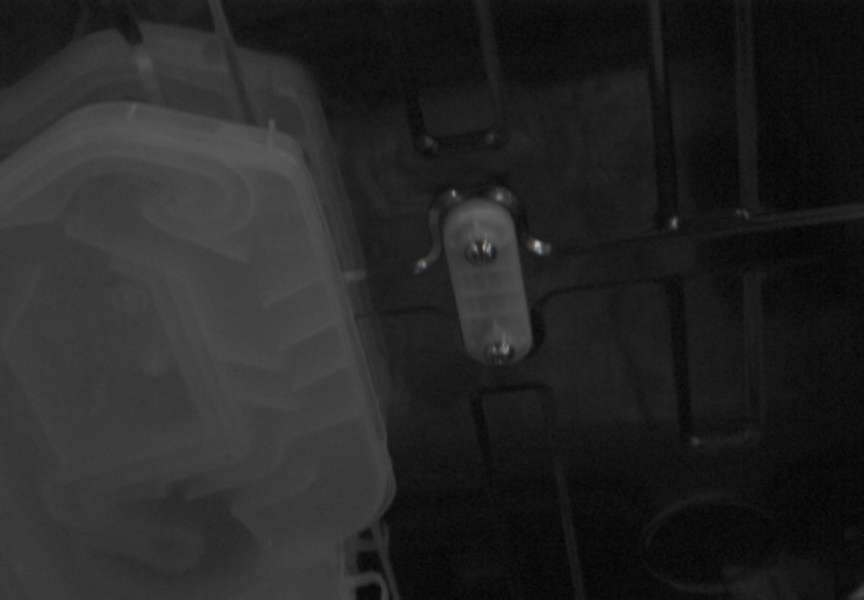screw: (465, 238, 497, 265), (485, 340, 516, 366)
